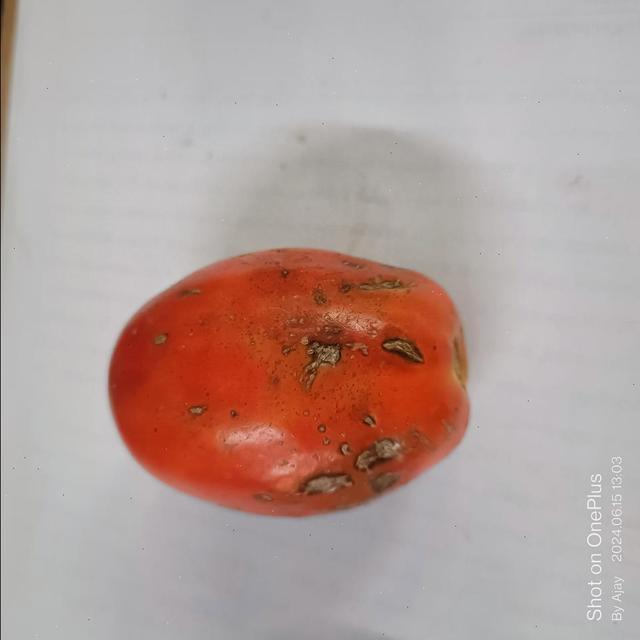Bacterial Spot Fruit: (4, 4, 269, 324)
